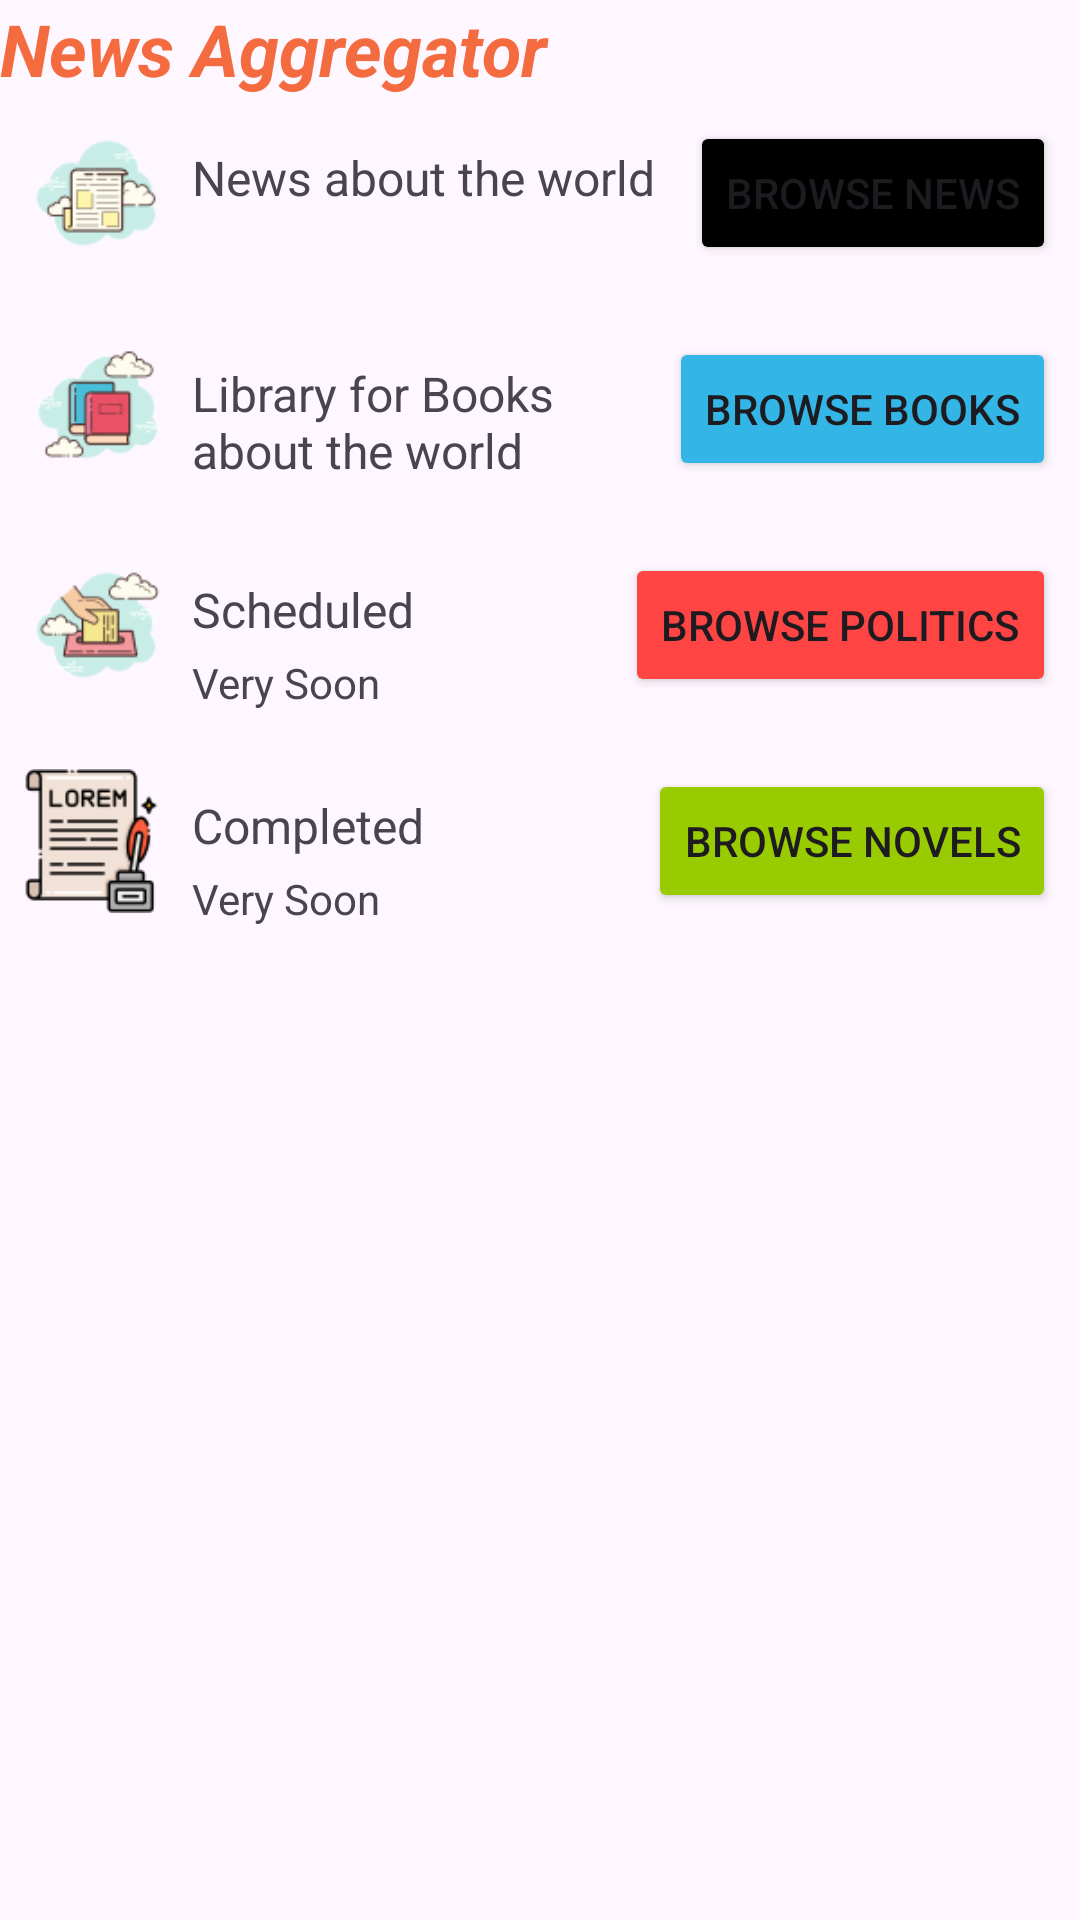

Screen size 1080 x 1920. Icon name, then its center in pixels as [x,y]:
novels: [91,841]
politics: [98,624]
